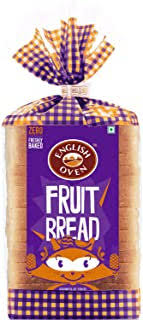bread: (4, 25, 140, 320)
